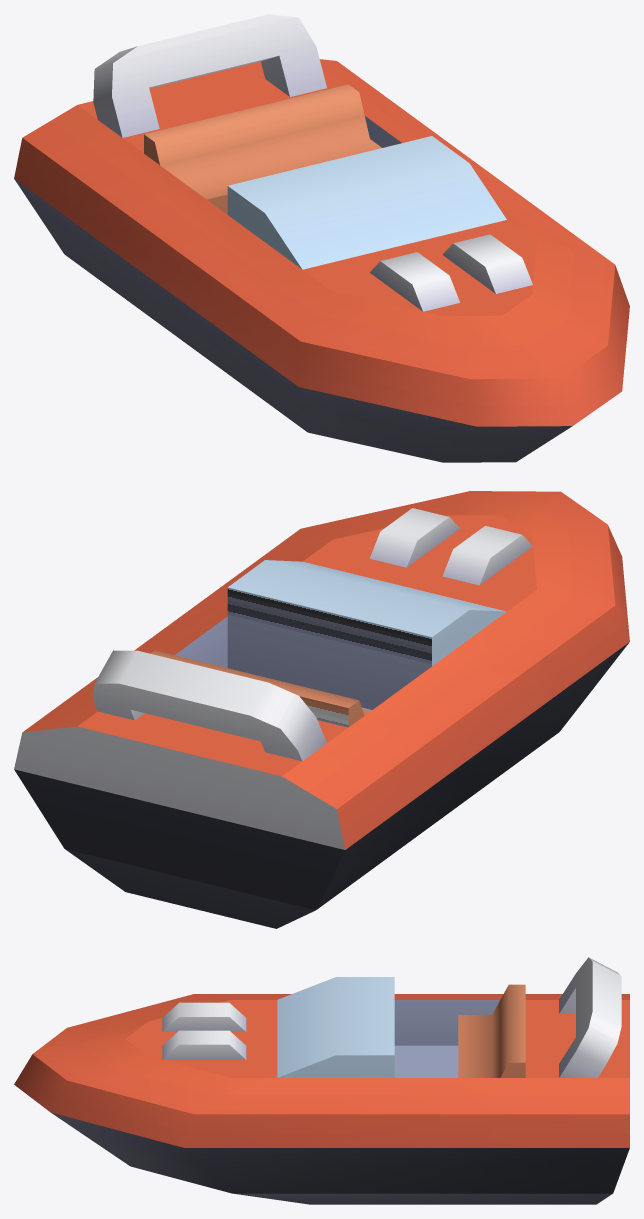
The model's file is boat-speed-h-transformed.glb.
3 renders of one model, top to bottom at view 1: azimuth 30°, elevation 25°; view 2: azimuth 150°, elevation 25°; view 3: azimuth 270°, elevation 25°, orthographic. The views are drawn at different scales.
Visible parts, largest first — view 1: boat-speed-h; view 2: boat-speed-h; view 3: boat-speed-h.
Part boxes in pixels (left/top/right/bottom): boat-speed-h: left=14, top=14, right=629, bottom=462; boat-speed-h: left=14, top=491, right=629, bottom=928; boat-speed-h: left=14, top=957, right=629, bottom=1204.
Size of the model in its own units: 1.78 by 1.25 by 3.67.
Materials: 1 (1 with a texture image).
